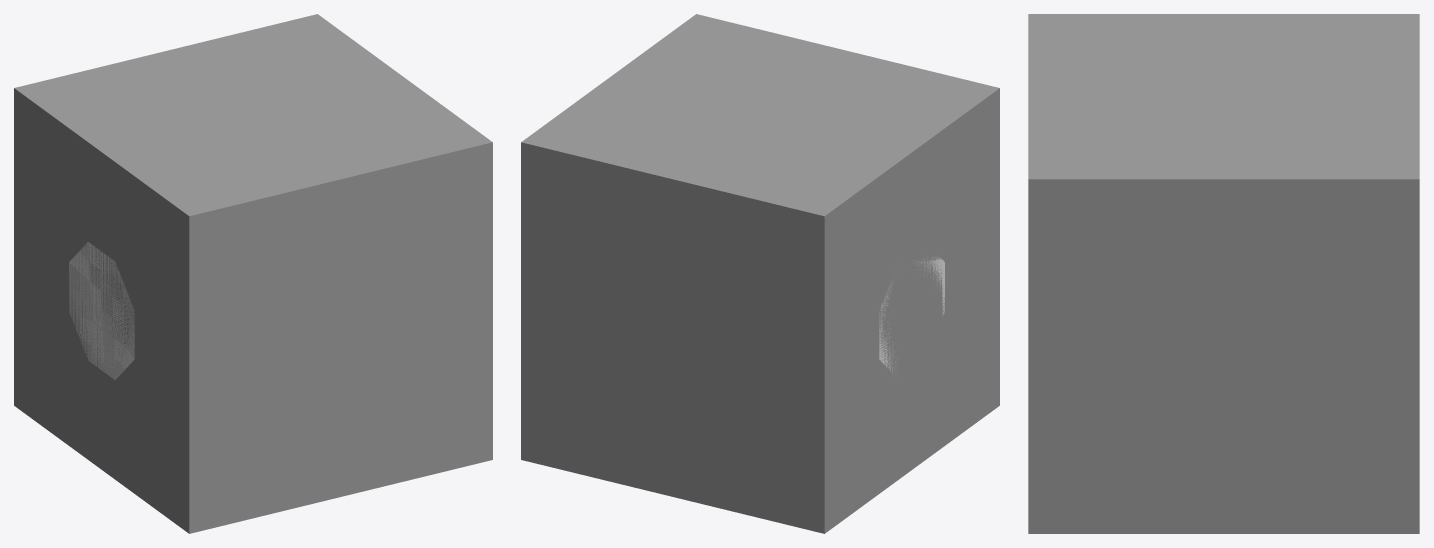
Rendered from FireDetector.obj.
The picture shows the model from 3 angles, left to right: view 1: azimuth 30°, elevation 25°; view 2: azimuth 150°, elevation 25°; view 3: azimuth 270°, elevation 25°; orthographic projection. The views are drawn at different scales.
Visible parts, largest first — view 1: Minecraft_Block_Cube, Minecraft_2_Edge_Connectivity_Cube.002, Detector; view 2: Minecraft_Block_Cube, Minecraft_2_Edge_Connectivity_Cube.002, Detector; view 3: Minecraft_Block_Cube.
Boxes of the visible parts, x1,y1,x2,y2 form: Minecraft_Block_Cube: [14, 14, 492, 533]; Minecraft_2_Edge_Connectivity_Cube.002: [14, 88, 339, 533]; Detector: [69, 242, 134, 380]; Minecraft_Block_Cube: [521, 14, 999, 533]; Minecraft_2_Edge_Connectivity_Cube.002: [674, 88, 999, 533]; Detector: [879, 256, 944, 373]; Minecraft_Block_Cube: [1028, 14, 1419, 533].
Size of the model in its own units: 1 by 1 by 1.
Materials: 2 (1 with a texture image).
